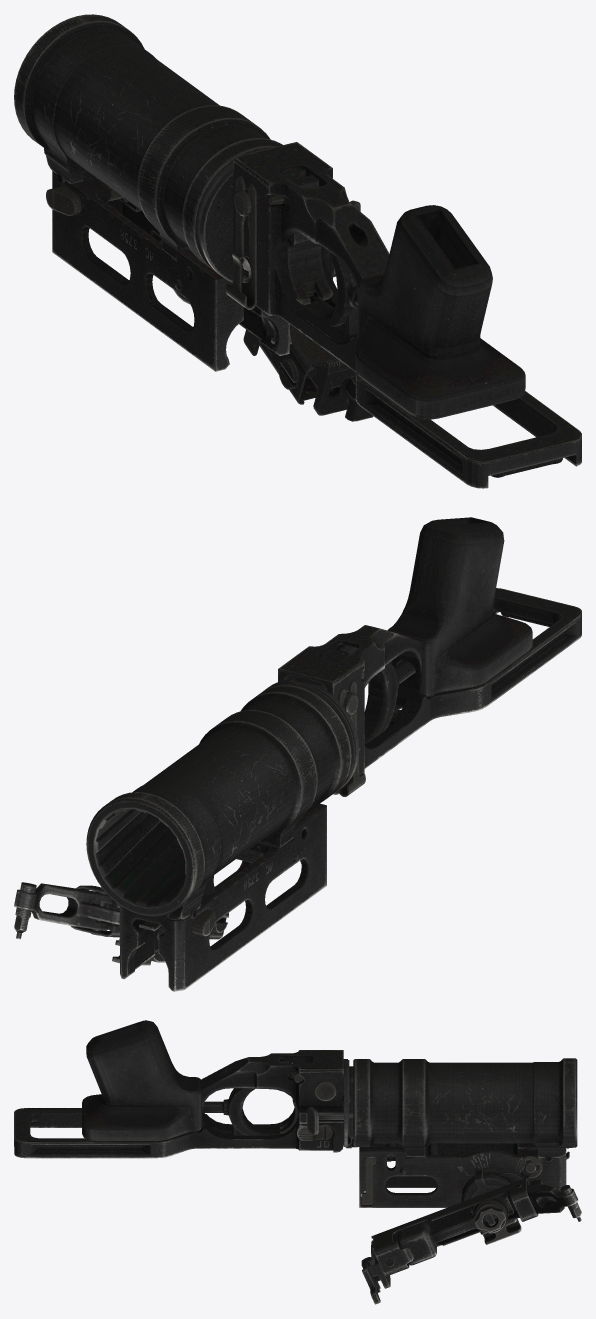
3 renders of one model, top to bottom at view 1: azimuth 30°, elevation 25°; view 2: azimuth 150°, elevation 25°; view 3: azimuth 270°, elevation 25°, orthographic. The views are drawn at different scales.
Parts seen in each view (by area): view 1: TW_62e7e7bbe6da9612f743f1e0_range350_PZ_Import; view 2: TW_62e7e7bbe6da9612f743f1e0_range350_PZ_Import; view 3: TW_62e7e7bbe6da9612f743f1e0_range350_PZ_Import.
Part boxes in pixels (x1,y1,x2,y2): TW_62e7e7bbe6da9612f743f1e0_range350_PZ_Import: (14, 14, 581, 488); TW_62e7e7bbe6da9612f743f1e0_range350_PZ_Import: (14, 517, 581, 991); TW_62e7e7bbe6da9612f743f1e0_range350_PZ_Import: (14, 1020, 581, 1304).
Size of the model in its own units: 0.0529 by 0.1865 by 0.0842.
1 material, 1 textured.
